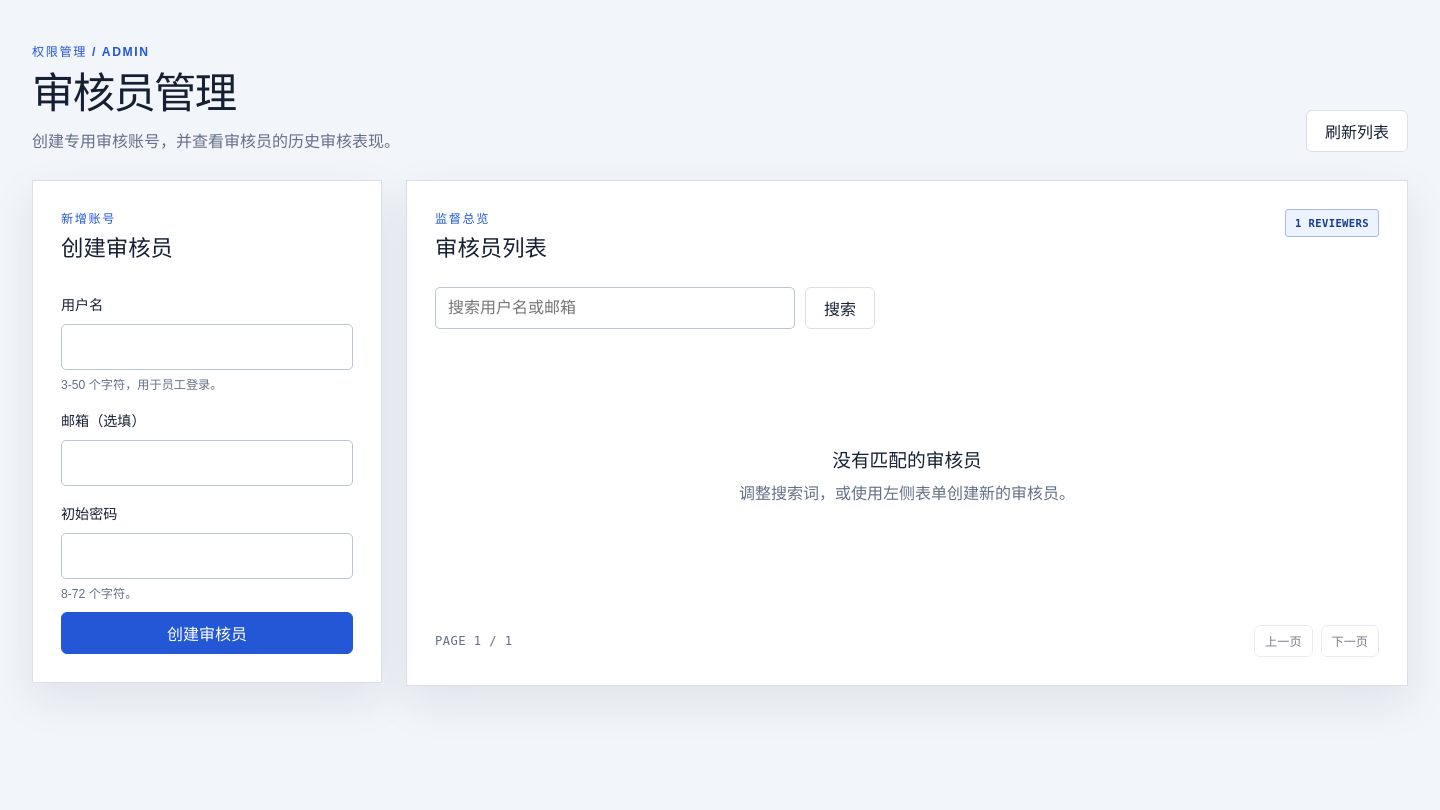
it: admin reviewer supervision › shows stable validation and service errors without leaking raw backend details
The image size is (1440, 810).
In the field with id "reviewer-username": (207, 347) 61,324 -> 353,370, type "ab"
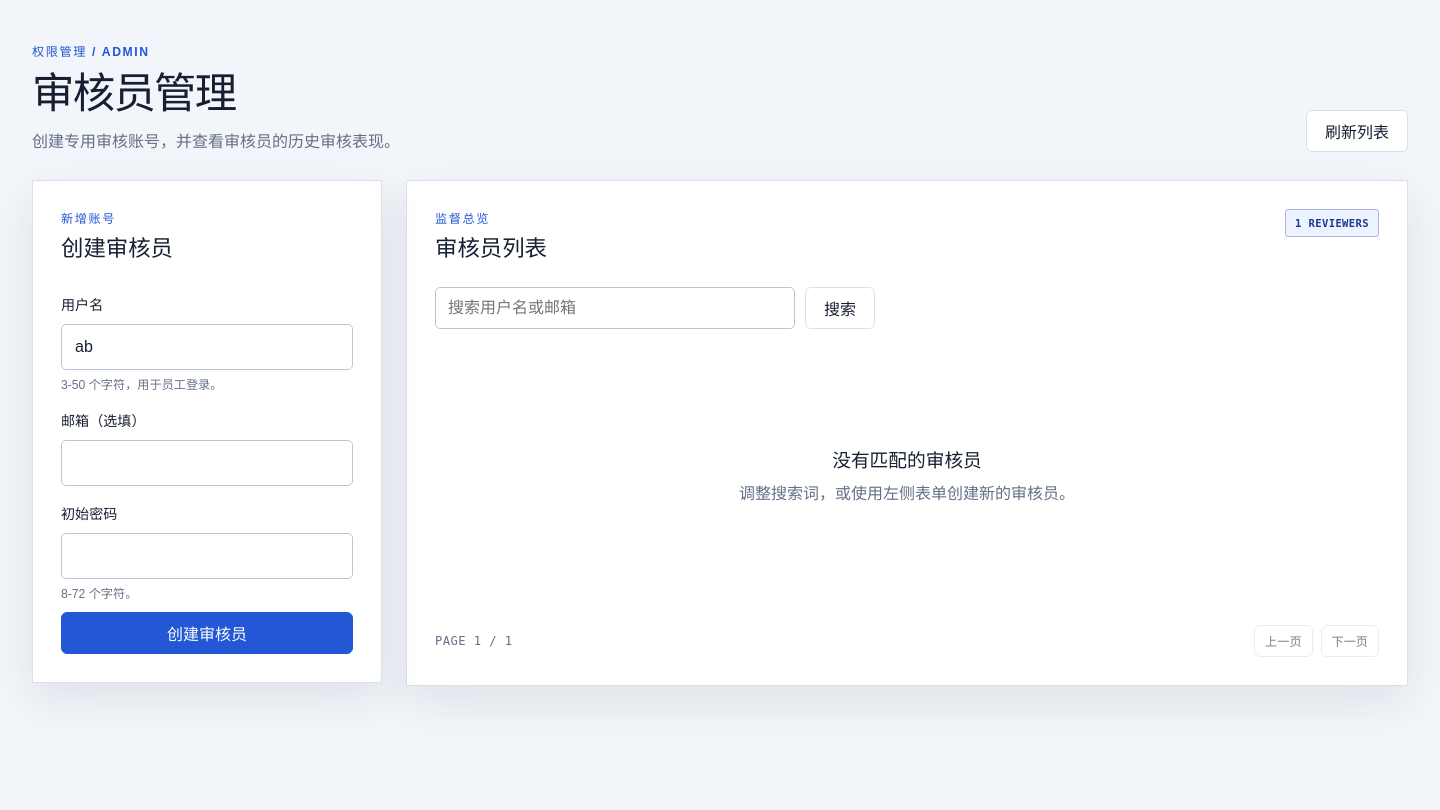
In the password field with id "reviewer-password": (207, 556) 61,533 -> 353,579, type "short"
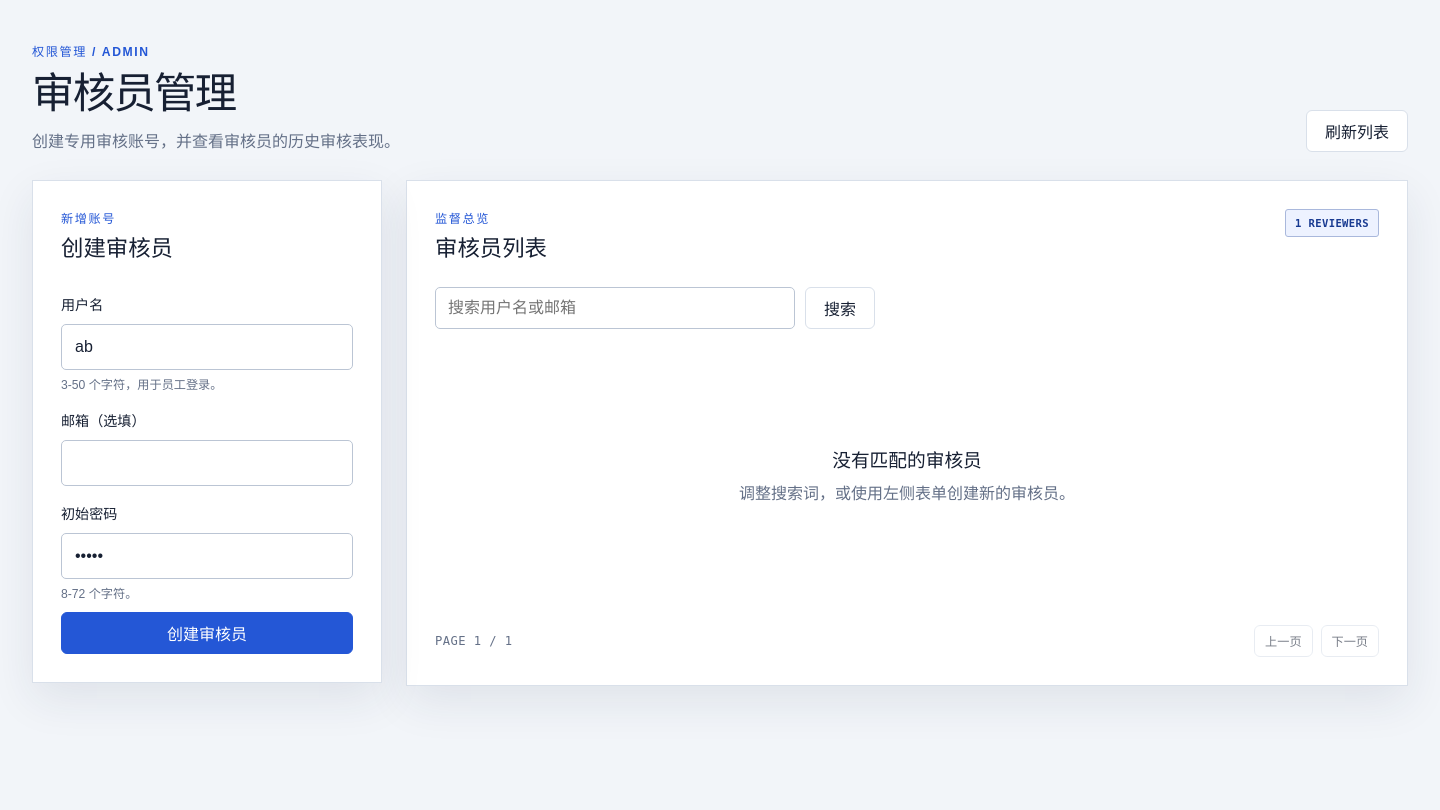
Submit the form "用户名 3-50 个字符，用于员工登录。 邮箱（选填） 初始密码 8-72 个字符。 创建审核员", box 61,287 -> 353,654
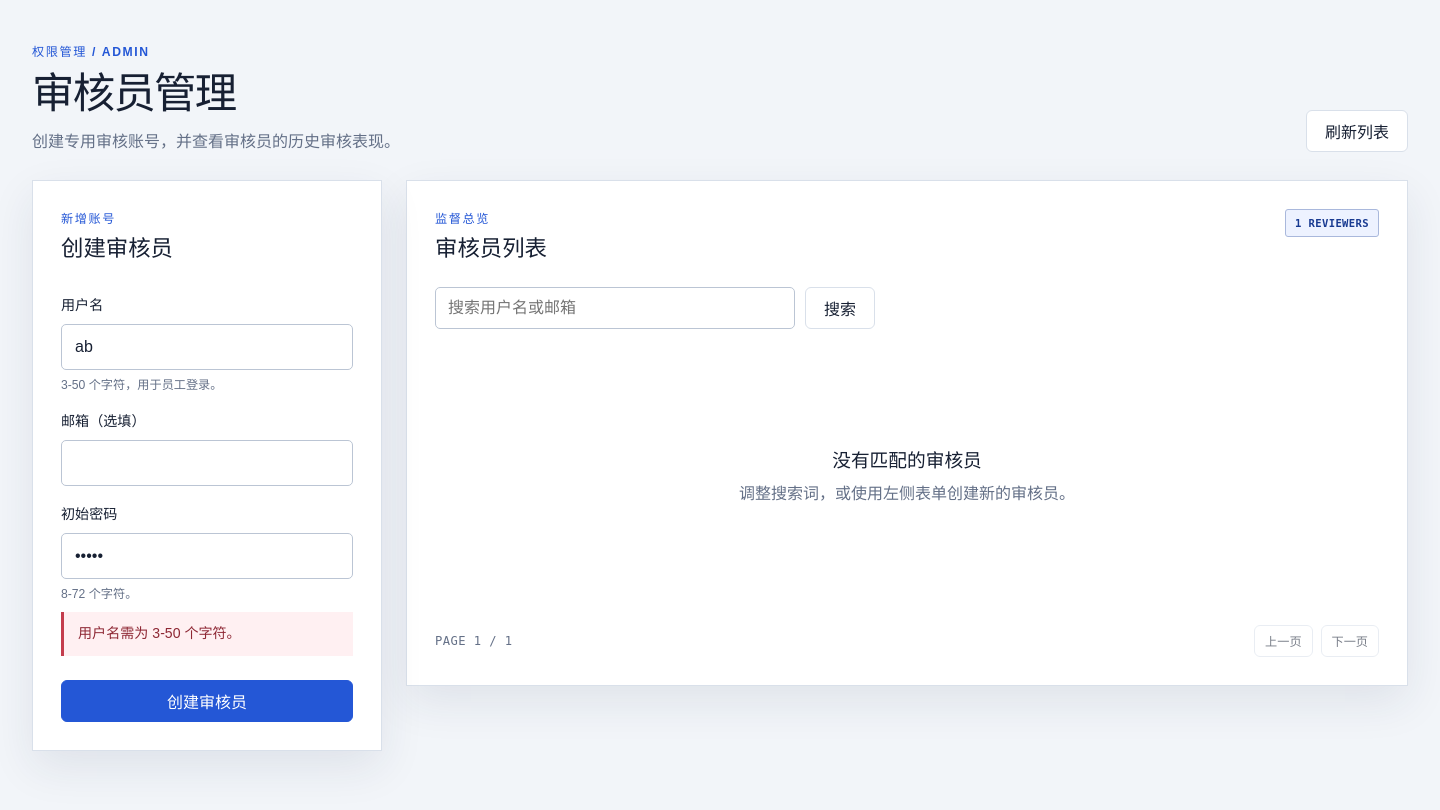
expect the message "用户名需为 3-50 个字符。" is shown: met, box 61,612 -> 353,656
Replace the text in the field with id "reviewer-username" with "reviewer-nine": (207, 347) 61,324 -> 353,370
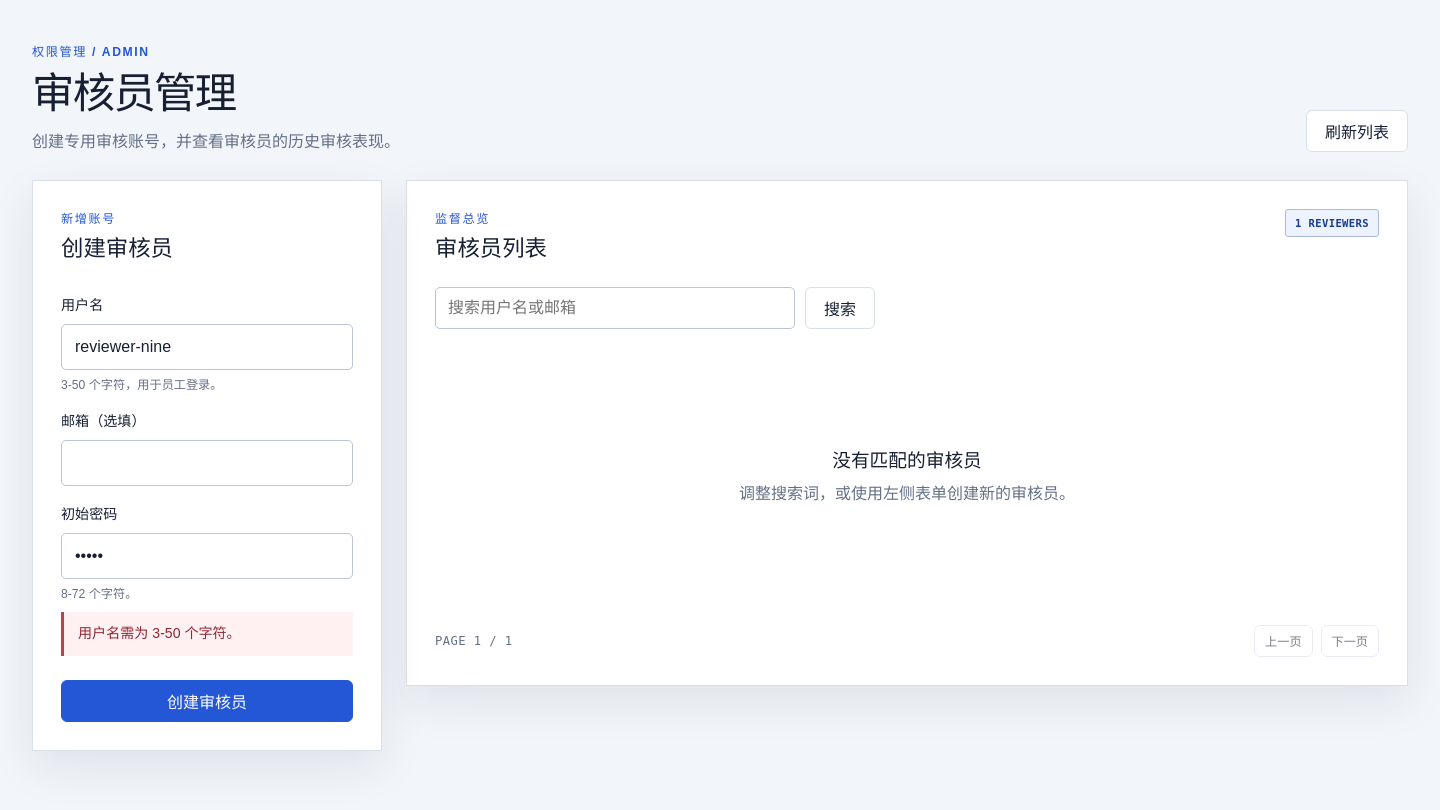
In the password field with id "reviewer-password": (207, 556) 61,533 -> 353,579, type "password123"
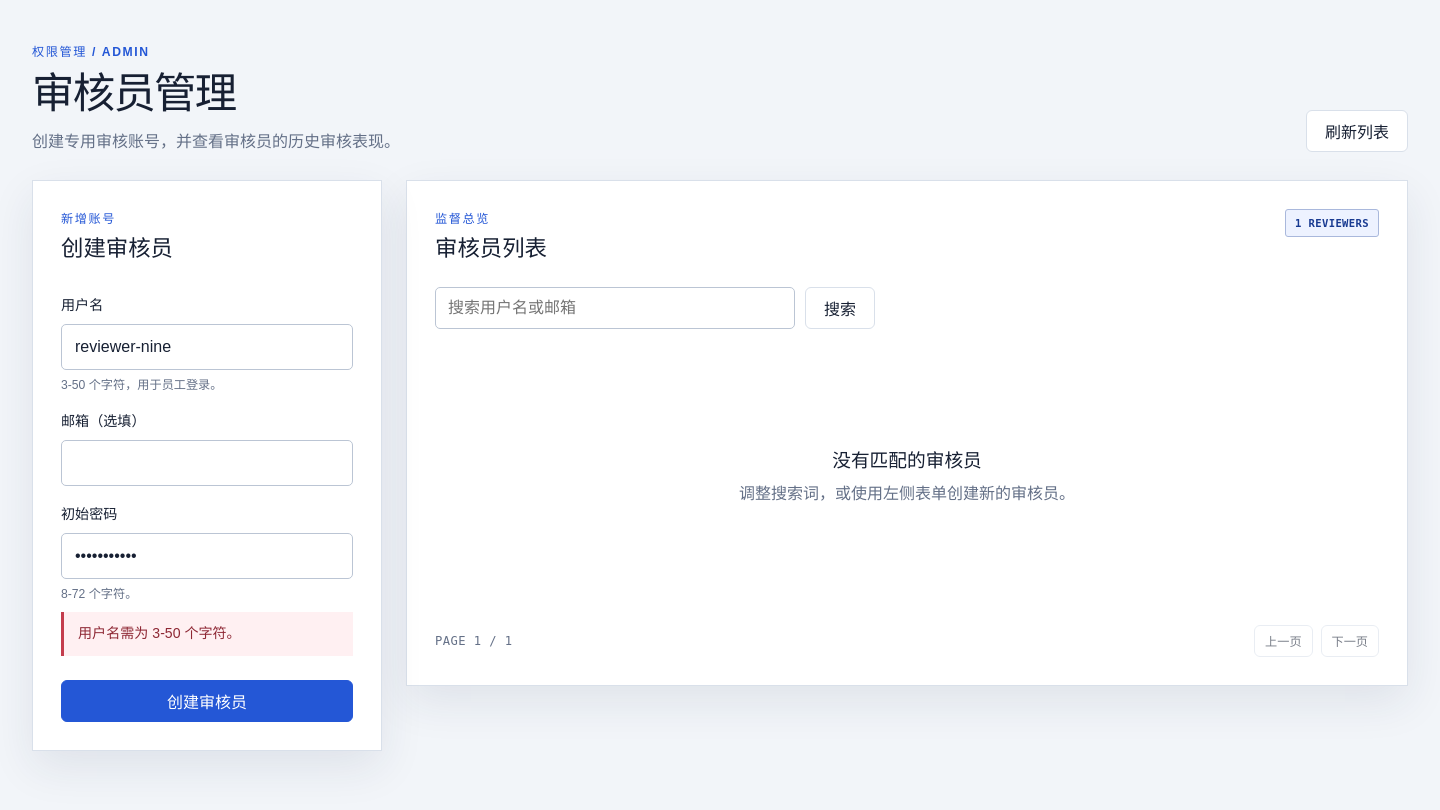
Submit the form that starts with "用户名", box 61,287 -> 353,722
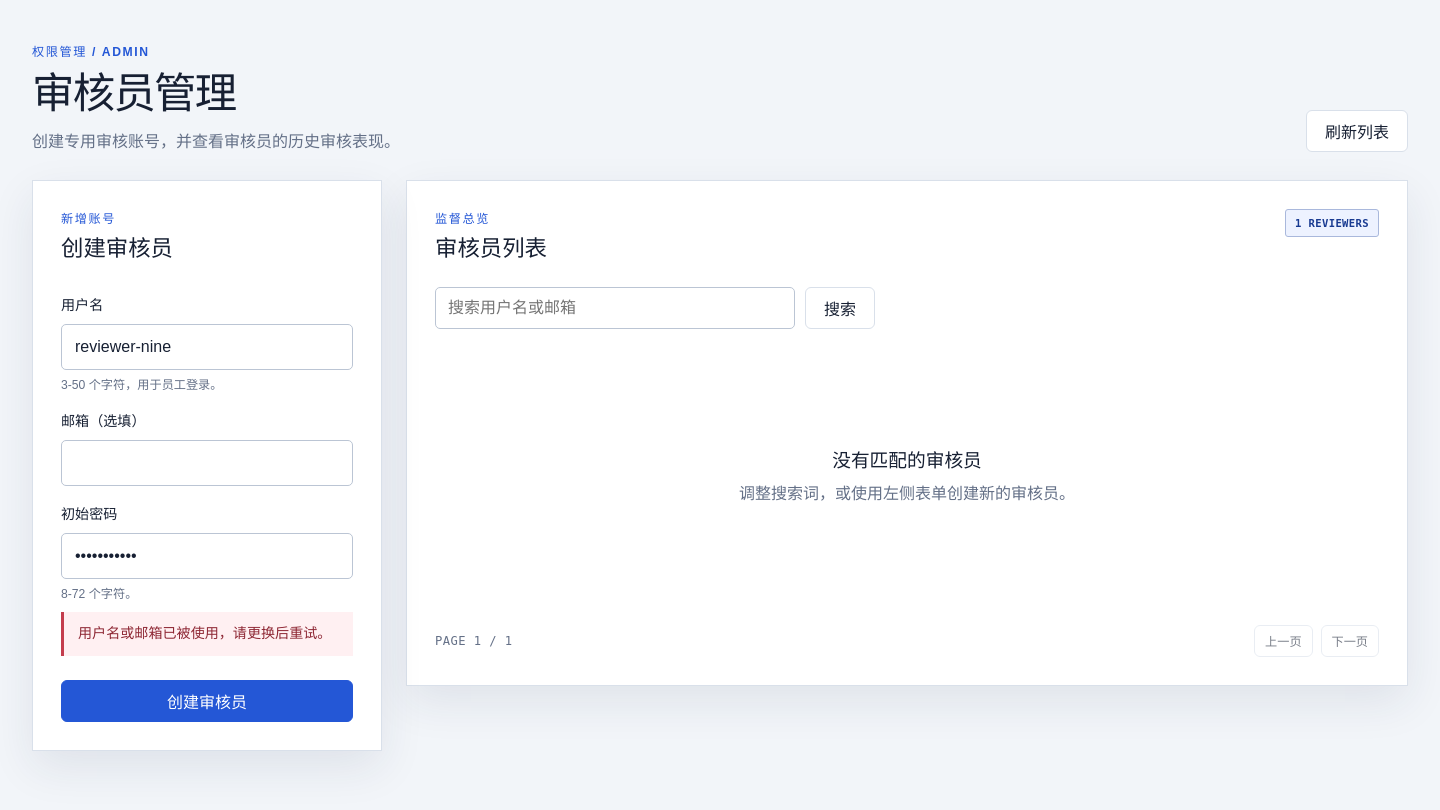
expect the message "用户名或邮箱已被使用，请更换后重试。" is shown: met, box 61,612 -> 353,656
